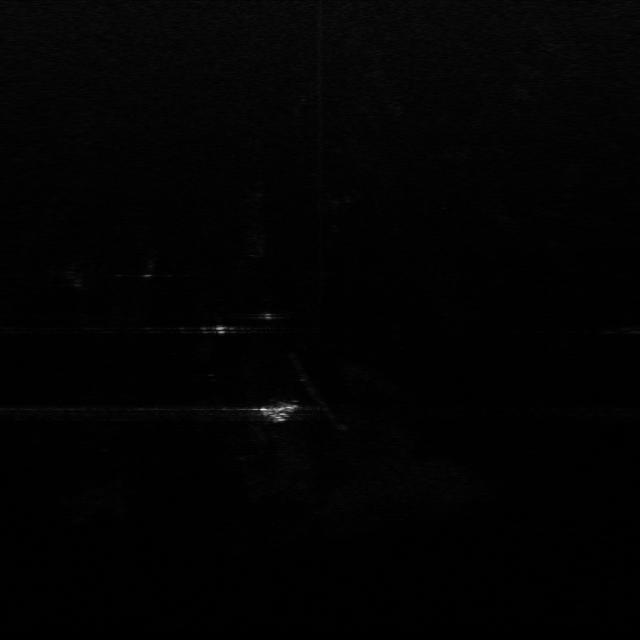rov: (254, 399, 300, 424)
